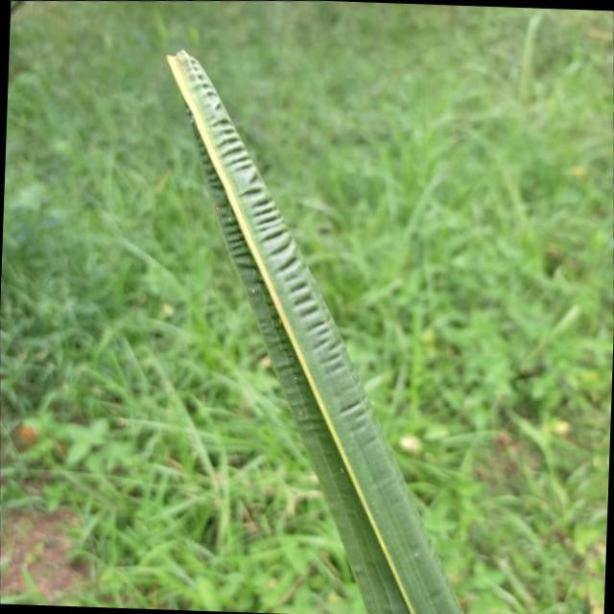Boron: (158, 43, 467, 614)
